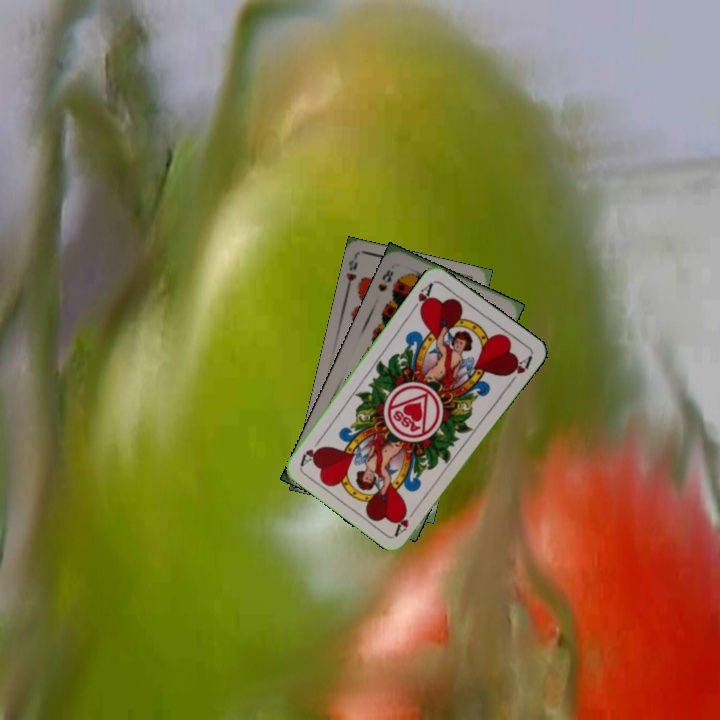H9: (342, 256, 360, 293)
HA: (407, 278, 436, 316), (391, 502, 421, 538)
S8: (374, 265, 396, 294)
